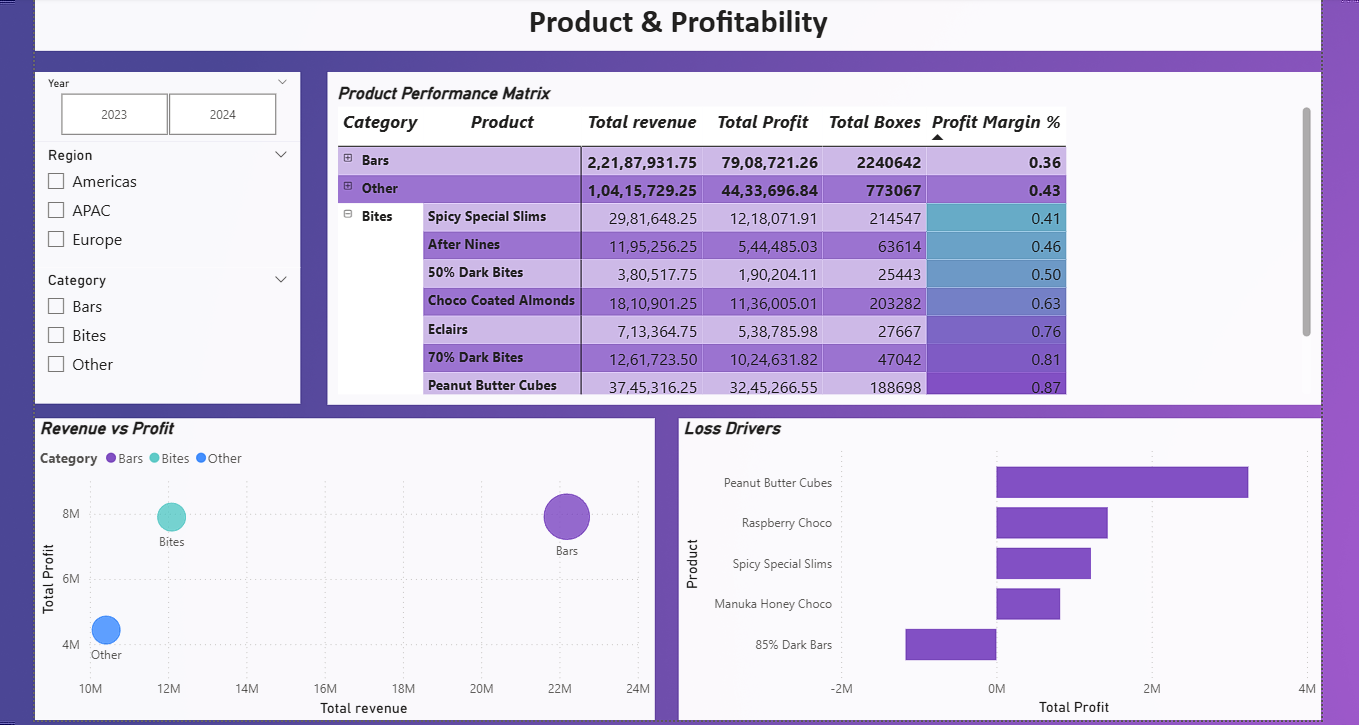

Layout of this report page (visuals, bound fields, positions):
{"tool":"powerbi","page":{"name":"Product & Profitability","canvas":[1280,720],"ordinal":1},"visuals":[{"type":"textbox","box":[0,0,1280.3,53.5],"z":0},{"type":"pivotTable","title":"Product Performance Matrix","fields":{"Rows":["products.Category","products.Product"],"Values":["calendar.Total revenue","calendar.Total Profit","calendar.Total Boxes","calendar.Profit Margin %"]},"box":[291.1,74.6,988.9,330.9],"z":1000},{"type":"scatterChart","title":"Revenue vs Profit","fields":{"X":["calendar.Total revenue"],"Y":["calendar.Total Profit"],"Size":["calendar.Total Boxes"],"Series":["products.Category"]},"box":[0,419.2,617,301],"z":2000},{"type":"clusteredBarChart","title":"Loss Drivers","fields":{"Y":["calendar.Total Profit"],"Category":["products.Product"]},"box":[640.6,419.2,639.4,301],"z":3000},{"type":"slicer","fields":{"Values":["calendar.cal_date.Variation.Date Hierarchy.Year"]},"box":[0,74.9,263.7,69.7],"z":4000},{"type":"slicer","fields":{"Values":["locations.Region"]},"box":[0,143.9,263.8,125],"z":5000},{"type":"slicer","fields":{"Values":["products.Category"]},"box":[0,268.9,263.8,136.2],"z":6000}]}

Visuals, with their boxes in screenshot pixels (x1, y1, x2, y2):
textbox: box(32, 0, 1304, 50)
"Product Performance Matrix" pivotTable: box(321, 71, 1304, 399)
"Revenue vs Profit" scatterChart: box(32, 413, 645, 712)
"Loss Drivers" clusteredBarChart: box(668, 413, 1304, 712)
slicer - calendar.cal_date.Variation.Date Hierarchy.Year: box(32, 71, 294, 140)
slicer - locations.Region: box(32, 139, 294, 264)
slicer - products.Category: box(32, 264, 294, 399)
